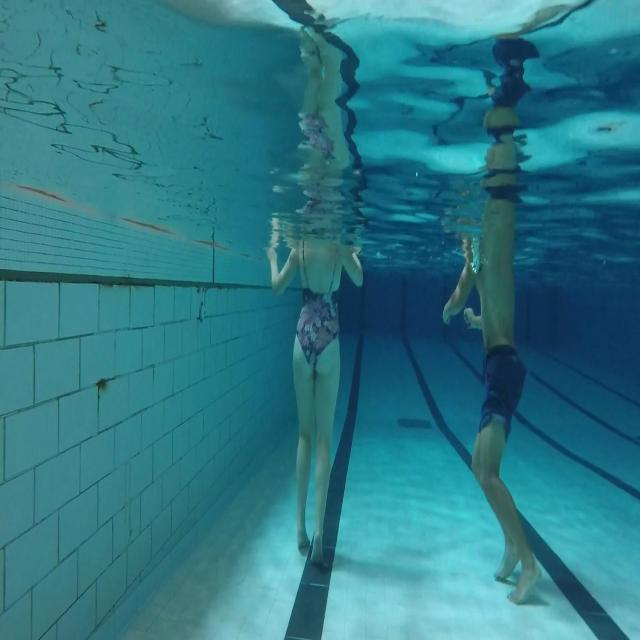human: (441, 36, 543, 605), (265, 231, 364, 567)
